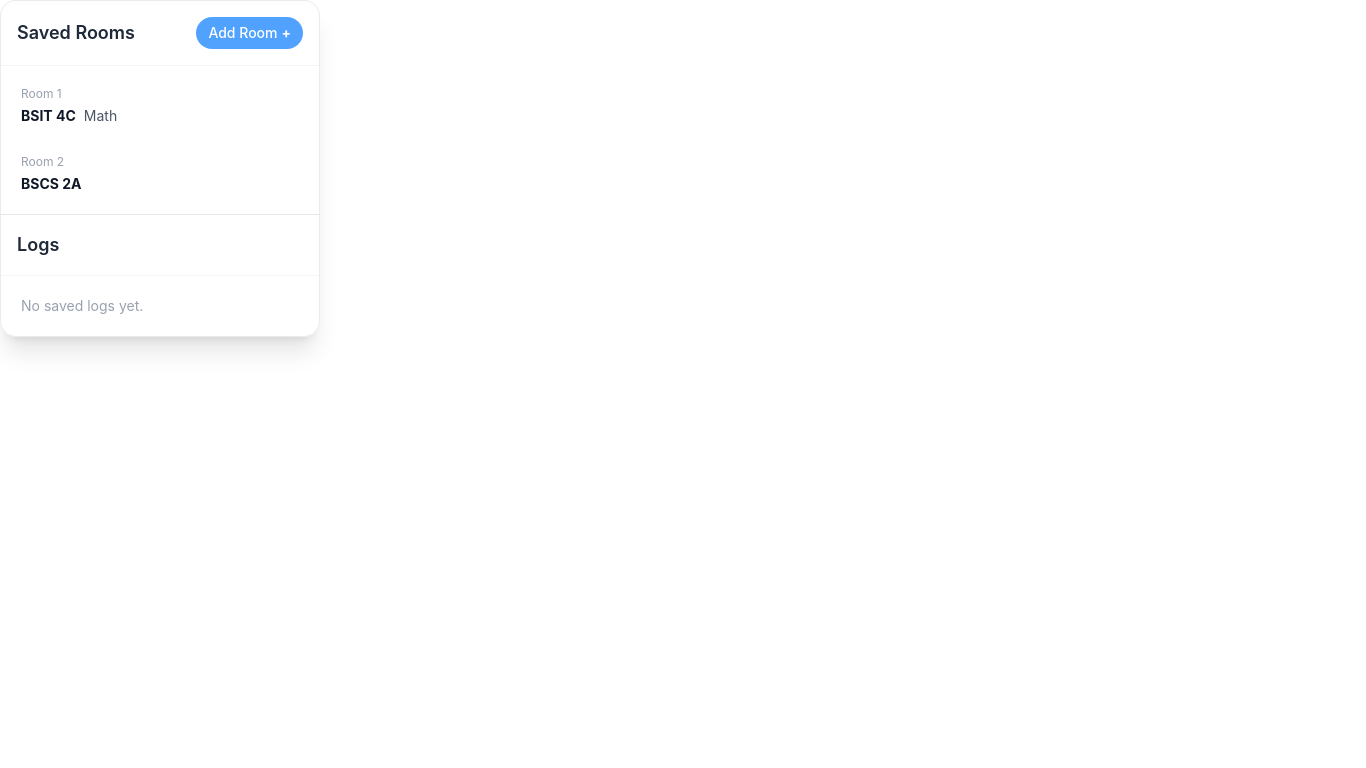
Test: CASE-024: Customize › discards unsaved edits when the overlay is closed and reopened
This screenshot has width=1366, height=768.
Click the text "Room 1": x=41, y=94 top-left (21, 86), bottom-right (62, 101)
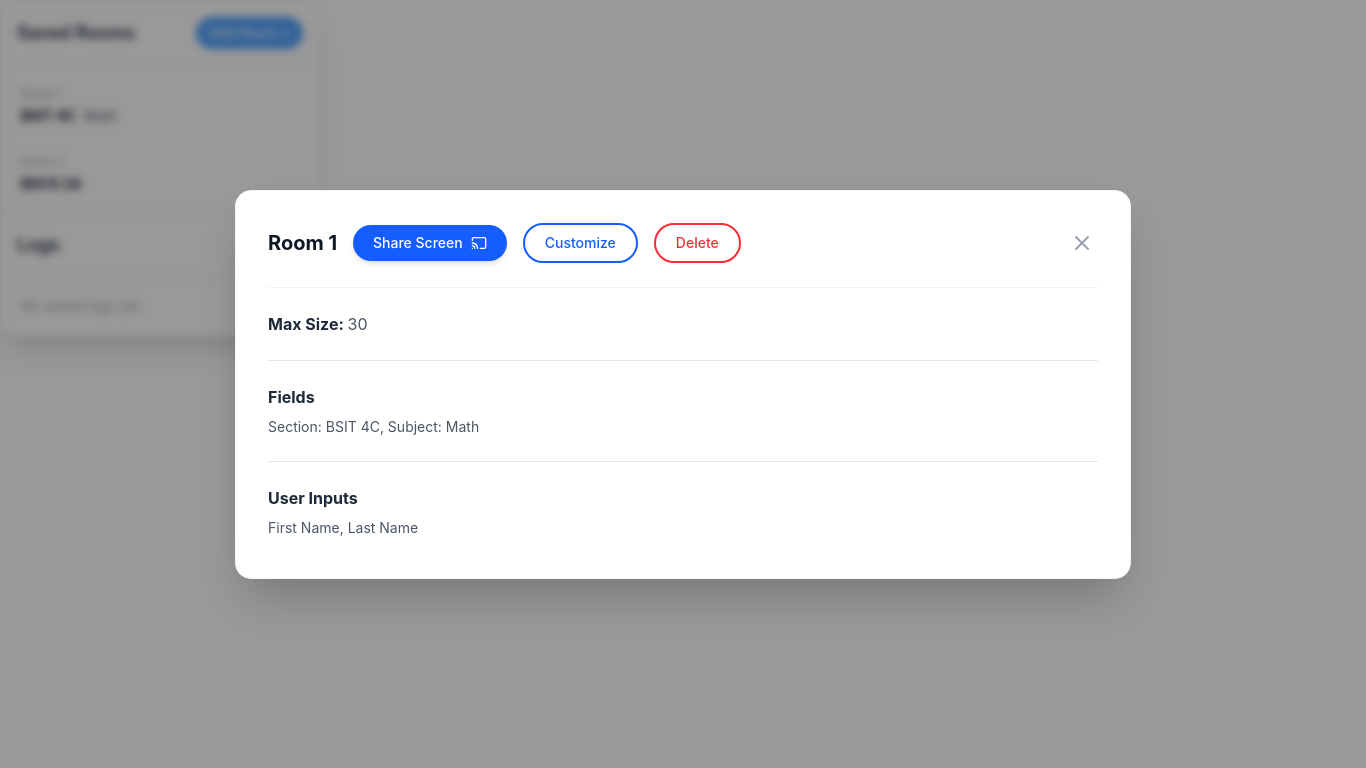
Result: the heading "Room 1" is shown at top-left (268, 228), bottom-right (337, 256)
Click the button "Customize": x=580, y=242 top-left (523, 222), bottom-right (638, 262)
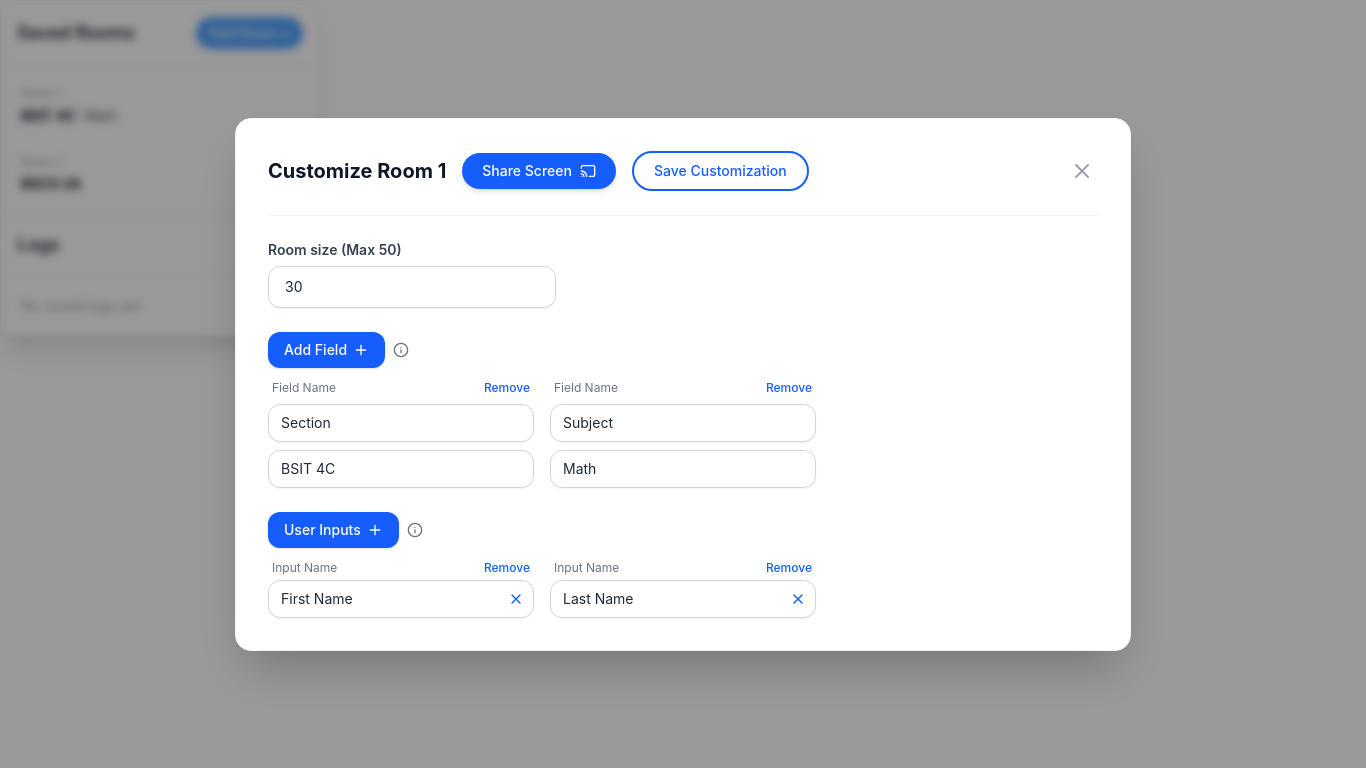
Replace the text in the field below "Room size (Max" with "12": x=412, y=286 top-left (268, 266), bottom-right (556, 308)
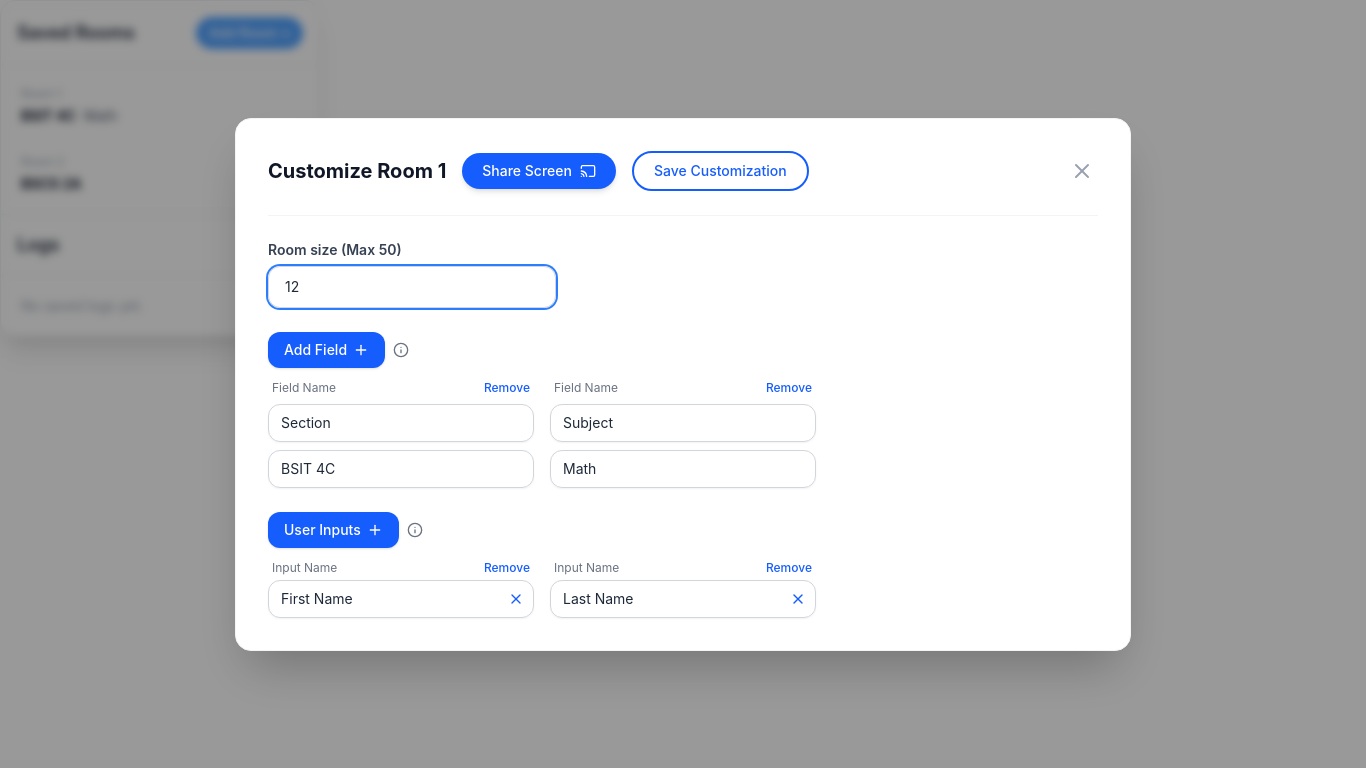
Click the button named "Close modal": x=1082, y=170 top-left (1066, 154), bottom-right (1098, 186)
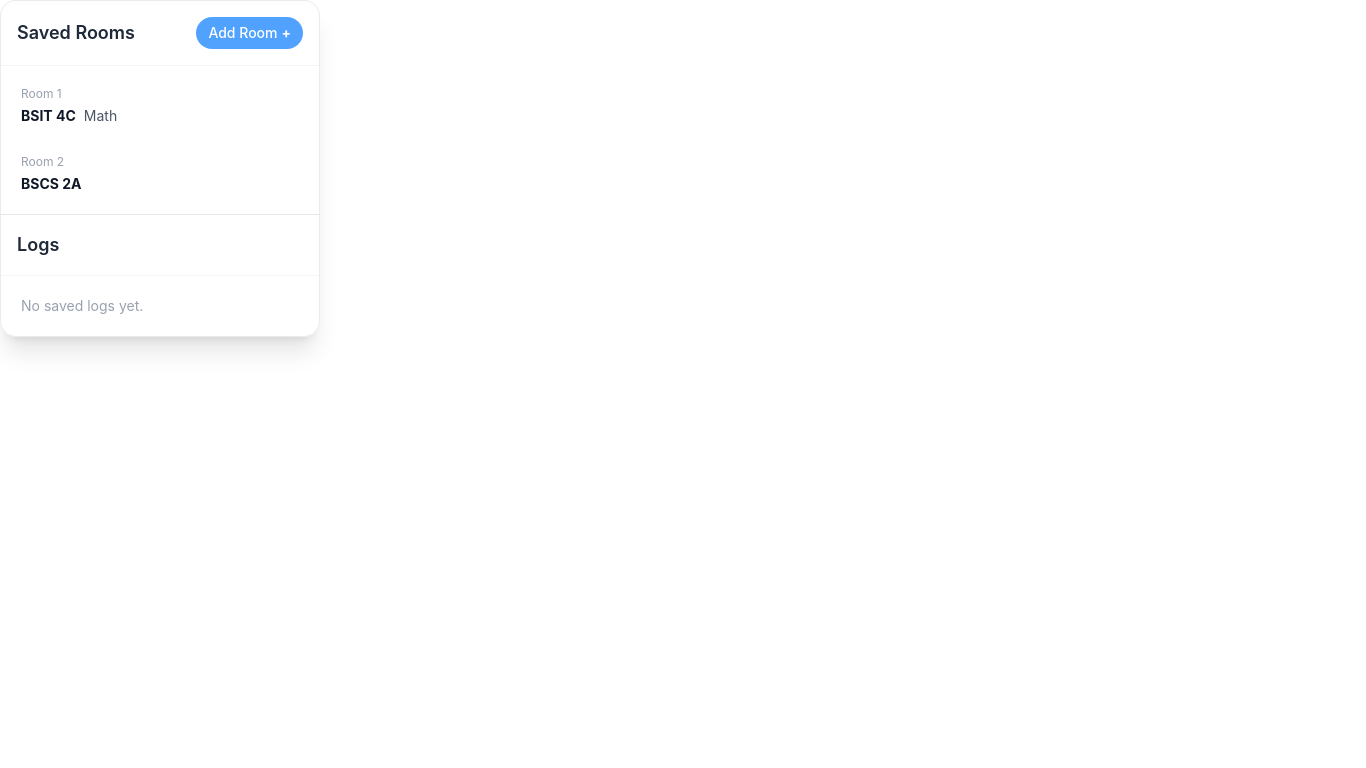
Click the text "Room 1": x=41, y=94 top-left (21, 86), bottom-right (62, 101)
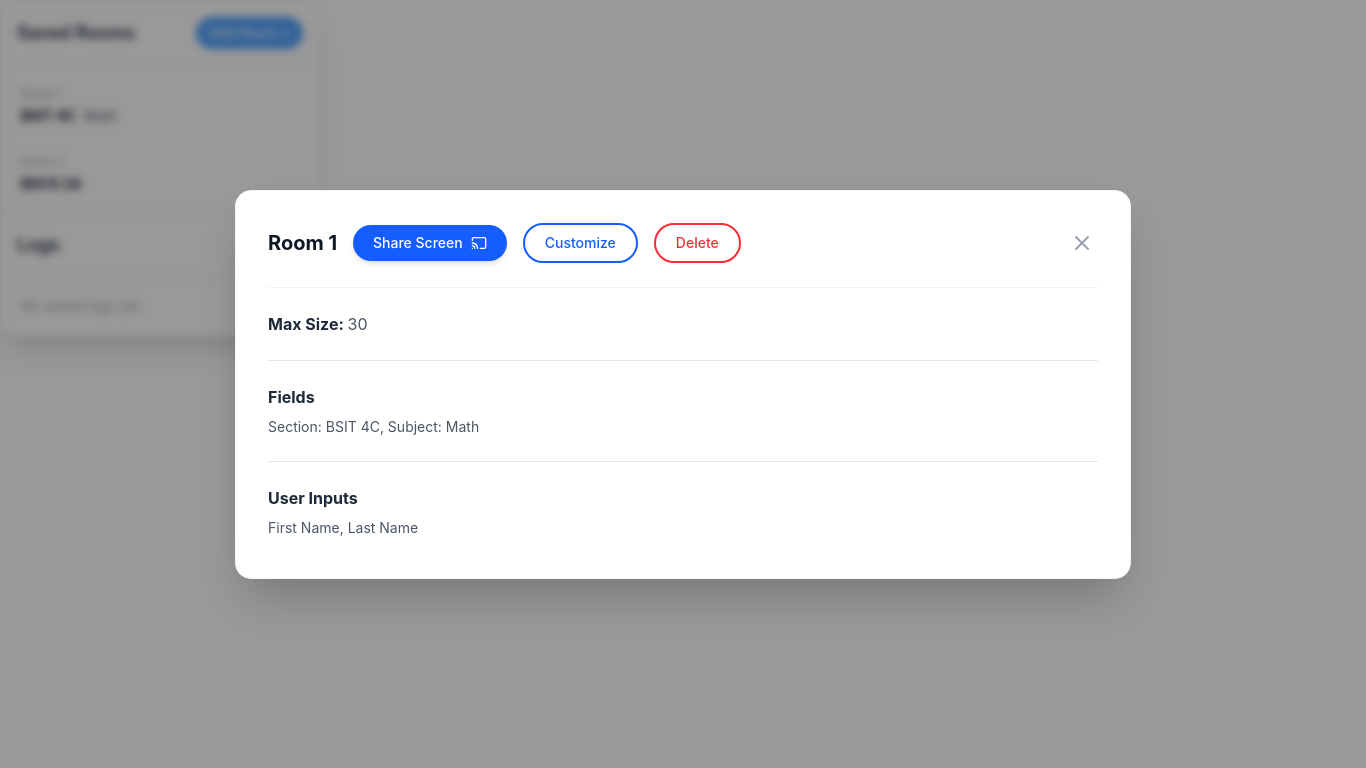
Result: the heading "Room 1" is shown at top-left (268, 228), bottom-right (337, 256)
Result: the element showing "Max Size: 30" is shown at top-left (268, 314), bottom-right (368, 334)
